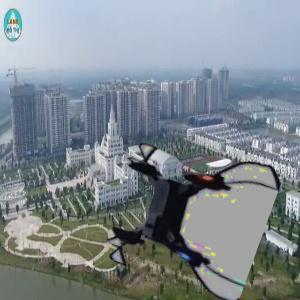drone: (109, 139, 266, 296)
